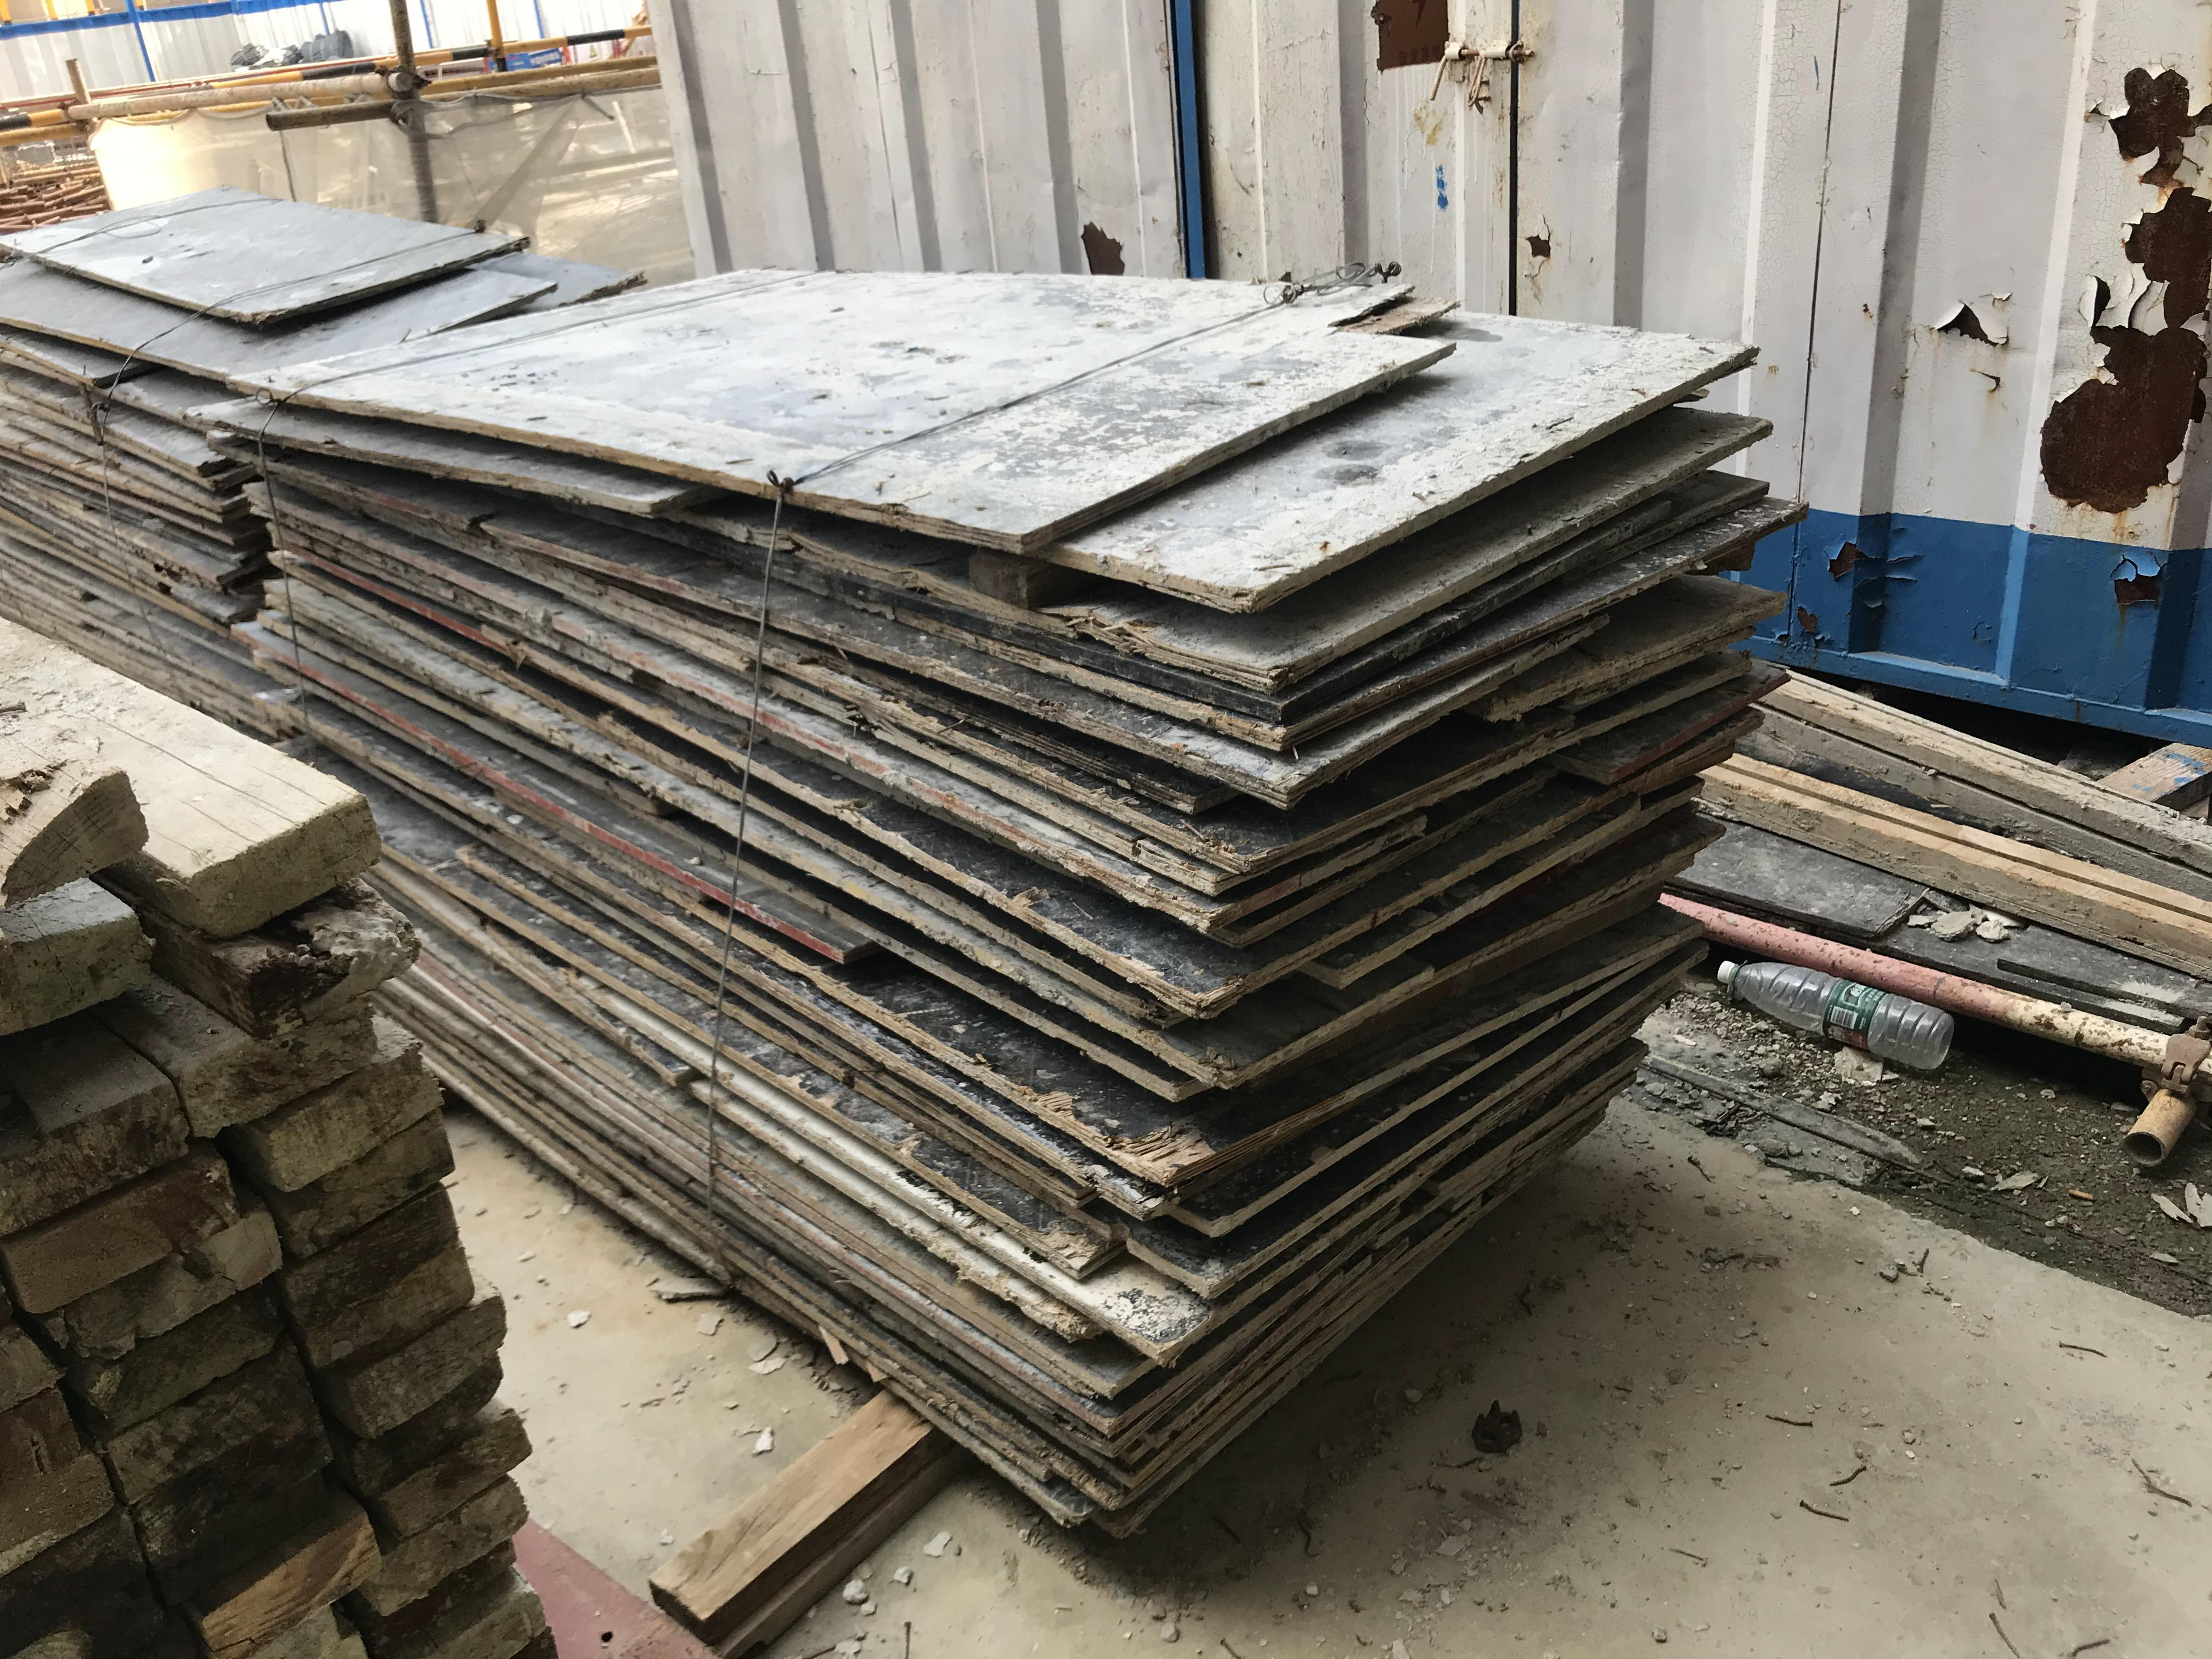board: (202, 247, 1789, 1535), (10, 223, 547, 718)
wood: (0, 652, 604, 1659)
